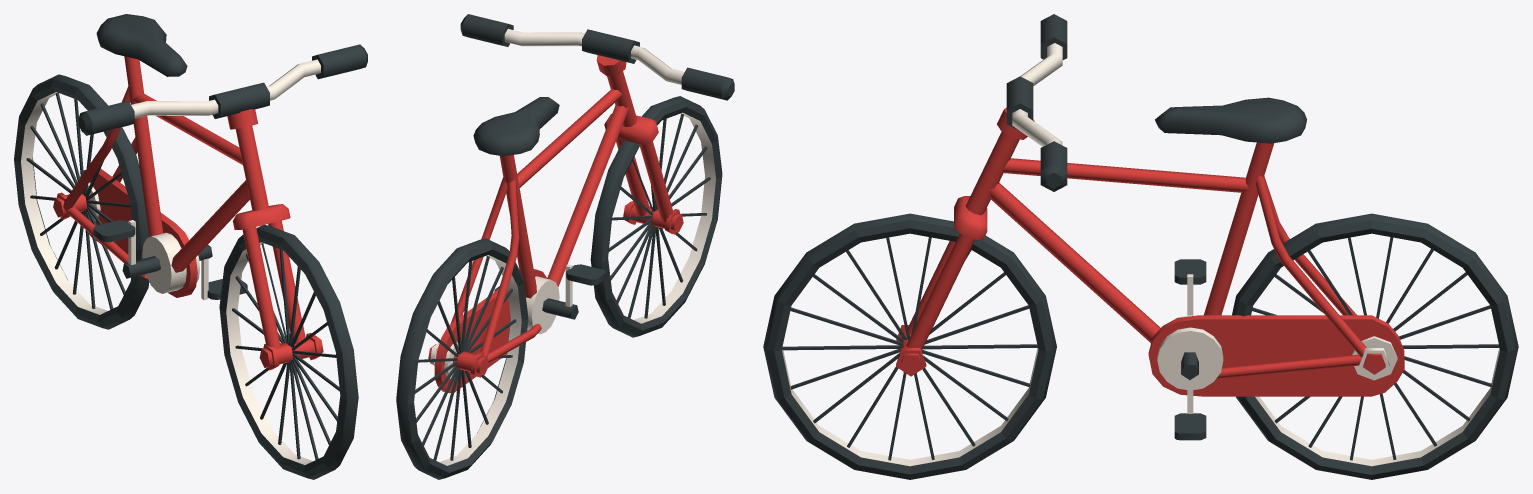
Rendered from Bicycle_01.fbx.
3 views of the same model, side by side, from view 1: azimuth 30°, elevation 25°; view 2: azimuth 150°, elevation 25°; view 3: azimuth 270°, elevation 25° (orthographic). The views are drawn at different scales.
Parts seen in each view (by area): view 1: Bicycle_01, Bicycle_01_Wheel_Front, Bicycle_01_Wheel_Back, Bicycle_01_Handlebar, Bicycle_01_Pedal_Right, Bicycle_01_CrankArm; view 2: Bicycle_01, Bicycle_01_Wheel_Back, Bicycle_01_Wheel_Front, Bicycle_01_Handlebar, Bicycle_01_Pedal_Right; view 3: Bicycle_01, Bicycle_01_Wheel_Front, Bicycle_01_Wheel_Back, Bicycle_01_Handlebar, Bicycle_01_Pedal_Left.
Part boxes in pixels (<box>): Bicycle_01: <box>53,14,268,297</box>; Bicycle_01_Wheel_Front: <box>219,225,358,479</box>; Bicycle_01_Wheel_Back: <box>14,74,149,329</box>; Bicycle_01_Handlebar: <box>78,44,367,370</box>; Bicycle_01_Pedal_Right: <box>93,220,135,242</box>; Bicycle_01_CrankArm: <box>128,220,208,299</box>; Bicycle_01: <box>428,55,636,393</box>; Bicycle_01_Wheel_Back: <box>396,238,528,479</box>; Bicycle_01_Wheel_Front: <box>590,96,722,337</box>; Bicycle_01_Handlebar: <box>460,14,734,234</box>; Bicycle_01_Pedal_Right: <box>566,264,605,285</box>; Bicycle_01: <box>965,97,1404,396</box>; Bicycle_01_Wheel_Front: <box>763,213,1056,479</box>; Bicycle_01_Wheel_Back: <box>1232,213,1518,479</box>; Bicycle_01_Handlebar: <box>896,14,1067,376</box>; Bicycle_01_Pedal_Left: <box>1174,413,1206,440</box>.
Size of the model in its own units: 0.8567 by 1 by 1.76.
